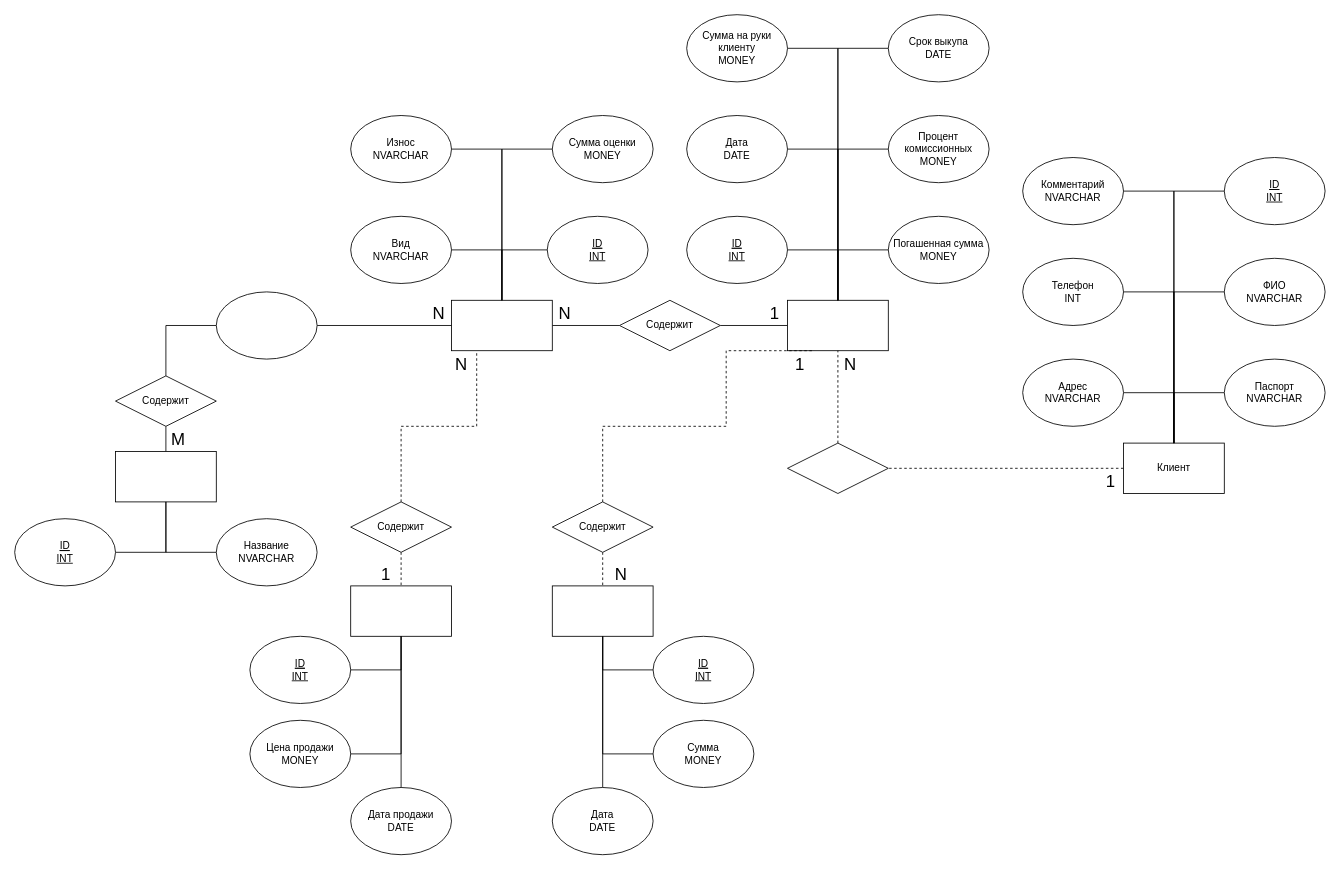
Some shapes in this 1340 by 869 pixel diagram are drawn without their labels. The centre of each missing label's shape, as x and y in pixels:
Вес: pixel 266 325
Договор: pixel 837 325
Заключает: pixel 837 468
Материал: pixel 165 476
Платеж: pixel 602 610
Продажа: pixel 401 610
Товар: pixel 501 325
